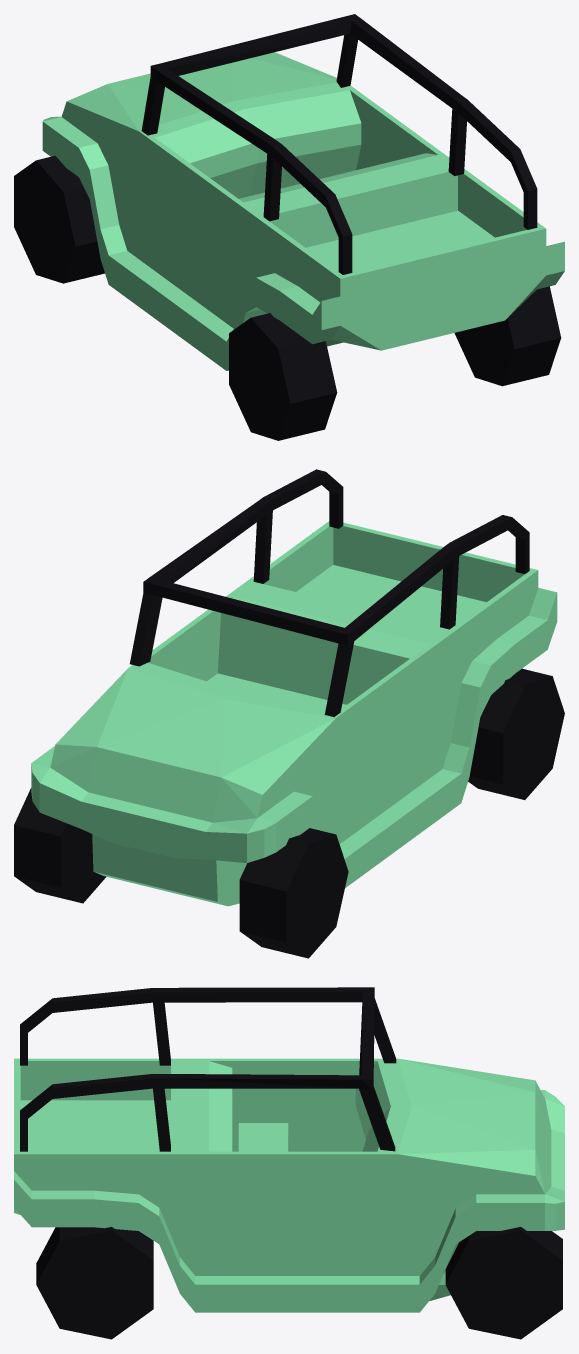
The model's file is afterimage.glb.
The picture shows the model from 3 angles, top to bottom: view 1: azimuth 30°, elevation 25°; view 2: azimuth 150°, elevation 25°; view 3: azimuth 270°, elevation 25°; orthographic projection. The views are drawn at different scales.
Parts seen in each view (by area): view 1: Chassis, Roll Bar, Tire-RR, Tire-FR, Tire-RL; view 2: Chassis, Roll Bar, Tire-FR, Tire-RR, Tire-FL; view 3: Chassis, Roll Bar, Tire-RL, Tire-FL.
Part boxes in pixels (<box>): Chassis: <box>42,52,564,370</box>; Roll Bar: <box>141,14,537,274</box>; Tire-RR: <box>229,313,337,440</box>; Tire-FR: <box>14,155,104,283</box>; Tire-RL: <box>454,286,561,386</box>; Chassis: <box>31,521,557,906</box>; Roll Bar: <box>129,469,529,716</box>; Tire-FR: <box>239,828,348,958</box>; Tire-RR: <box>468,668,564,799</box>; Tire-FL: <box>14,788,106,903</box>; Chassis: <box>14,1058,564,1312</box>; Roll Bar: <box>20,987,396,1151</box>; Tire-RL: <box>36,1226,153,1339</box>; Tire-FL: <box>445,1227,562,1339</box>.
Bounding box in the file's own units: 1.98 × 1.81 × 3.66.
